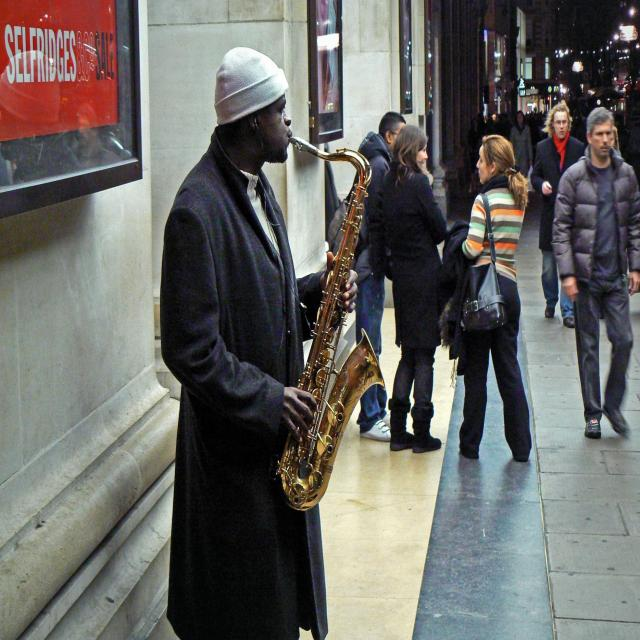saxophone: (275, 132, 387, 514)
